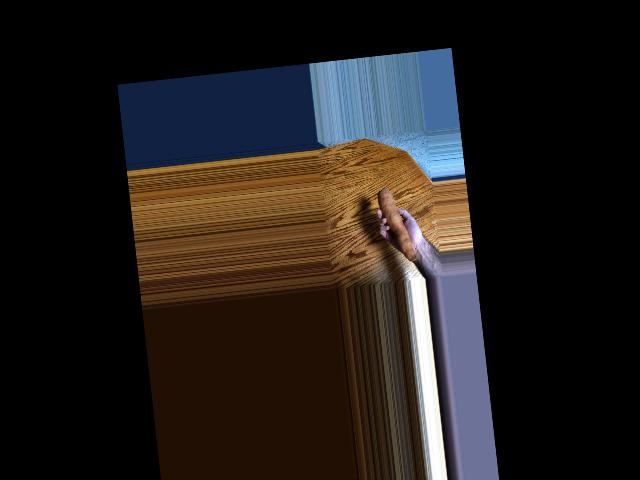sweet_potato: (371, 175, 411, 256)
